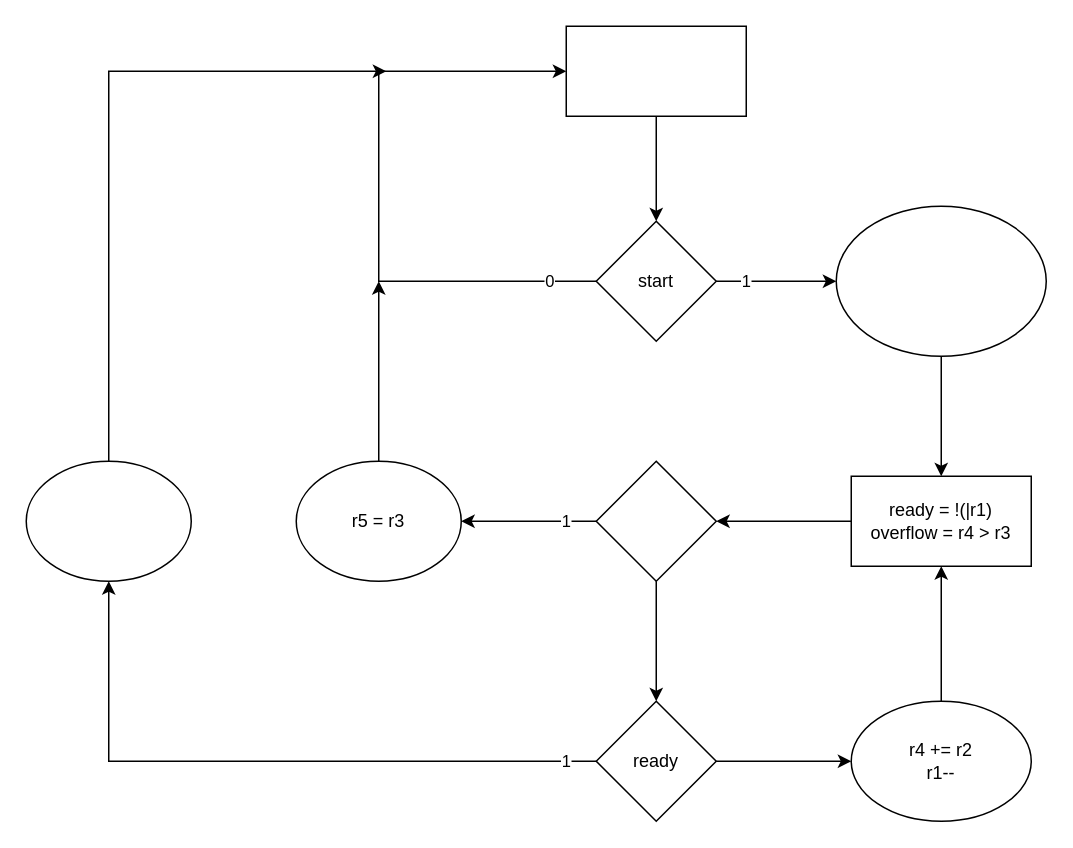
The diagram is 1073 pixels wide and 848 high, and some of its shapes have lost their labels. The shapes that lost their labels are listed below. From the top down, each one's centre as x and y in pixels, then its label:
At pixel 940 280: "ready = 0 r4 = 0 overflow = 0 r1 = min(inA, inB) r2 = max(inA, inB) r3 = inC".
At pixel 108 520: "r5 = r4".
At pixel 655 520: "overflow".
